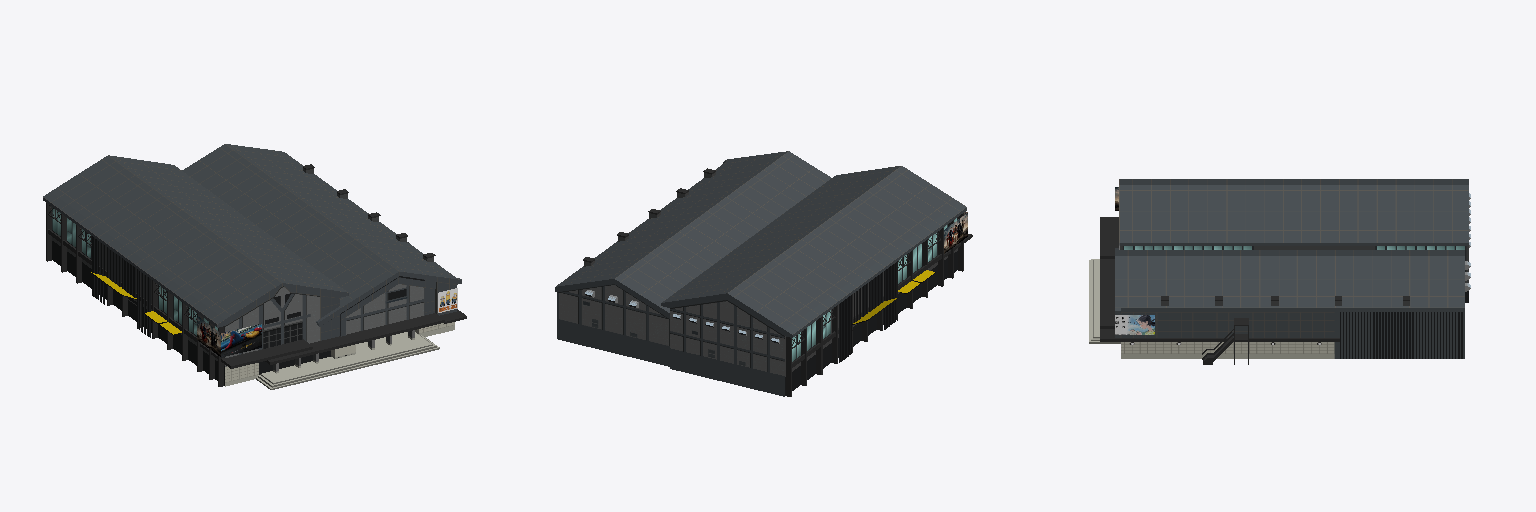
The picture shows the model from 3 angles: view 1: azimuth 30°, elevation 25°; view 2: azimuth 150°, elevation 25°; view 3: azimuth 270°, elevation 25°; orthographic projection.
Parts seen in each view (by area): view 1: sunDirection1; view 2: sunDirection1; view 3: sunDirection1.
Part boxes in pixels (x1,y1,x2,y2): sunDirection1: (43, 144, 466, 389); sunDirection1: (555, 151, 972, 396); sunDirection1: (1089, 179, 1470, 364).
Size of the model in its own units: 625 by 202 by 780.
Materials: 1 (1 with a texture image).